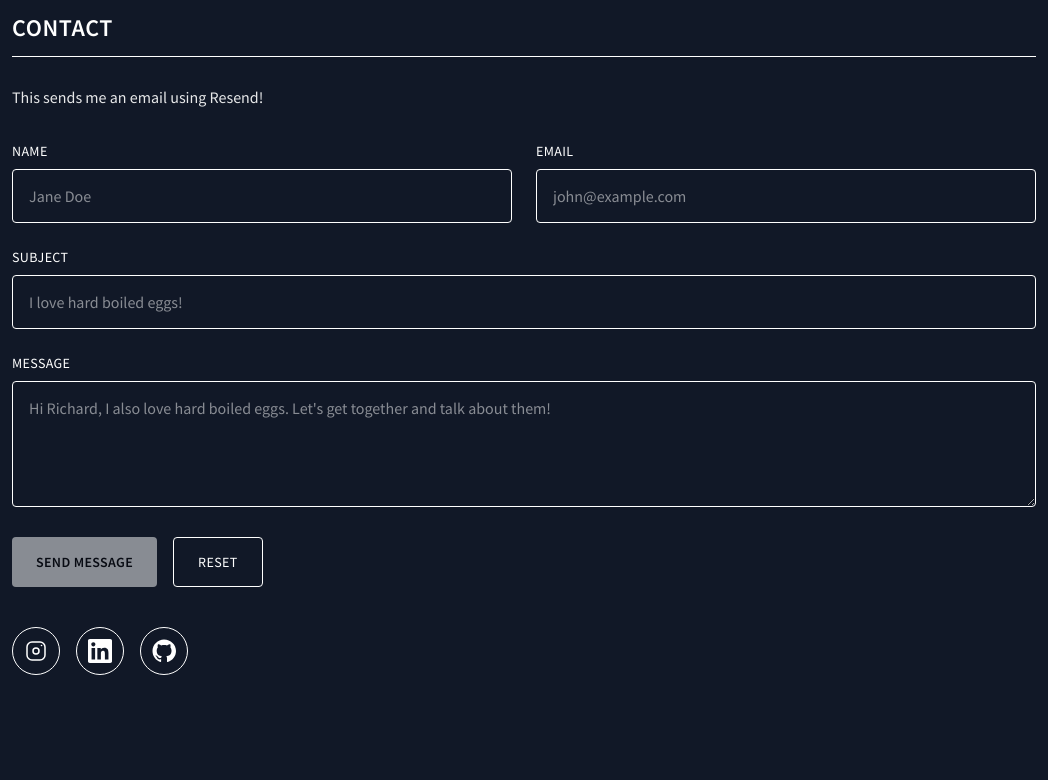
it: shows an invalid email error after blur and keeps sending disabled
Type "jane@example" into the field labelled "Email".
click(786, 196); type("jane@example")  # box [536, 169, 1036, 223]
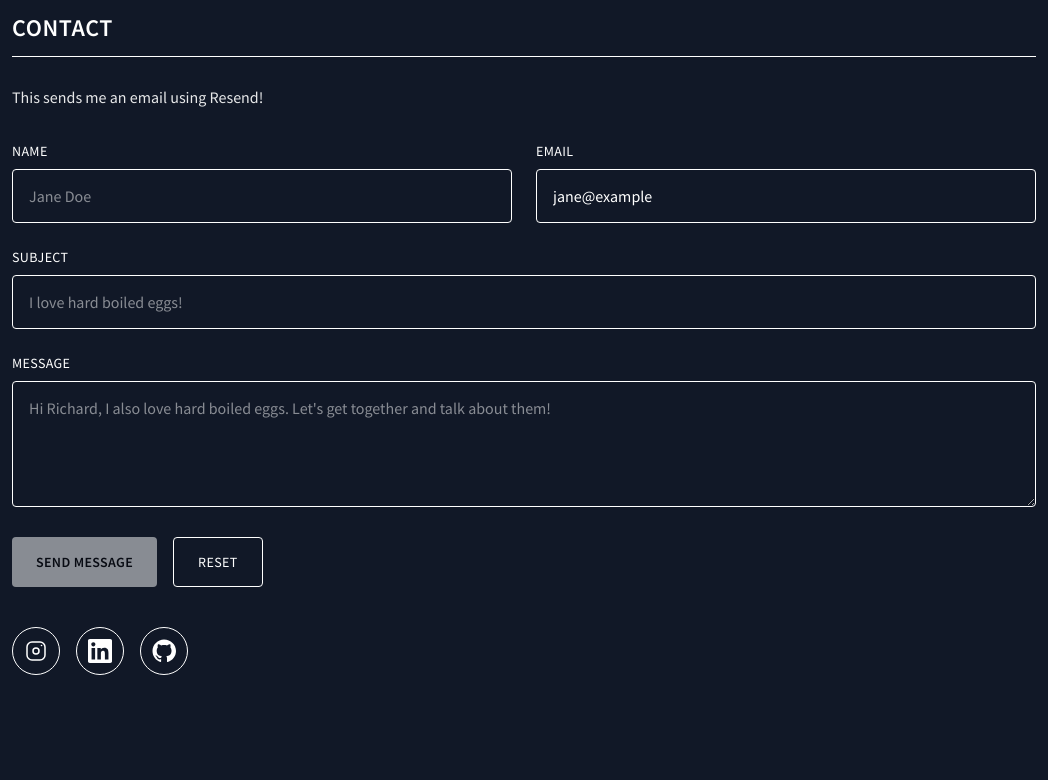
Leave the field labelled "Email", box [536, 169, 1036, 223]
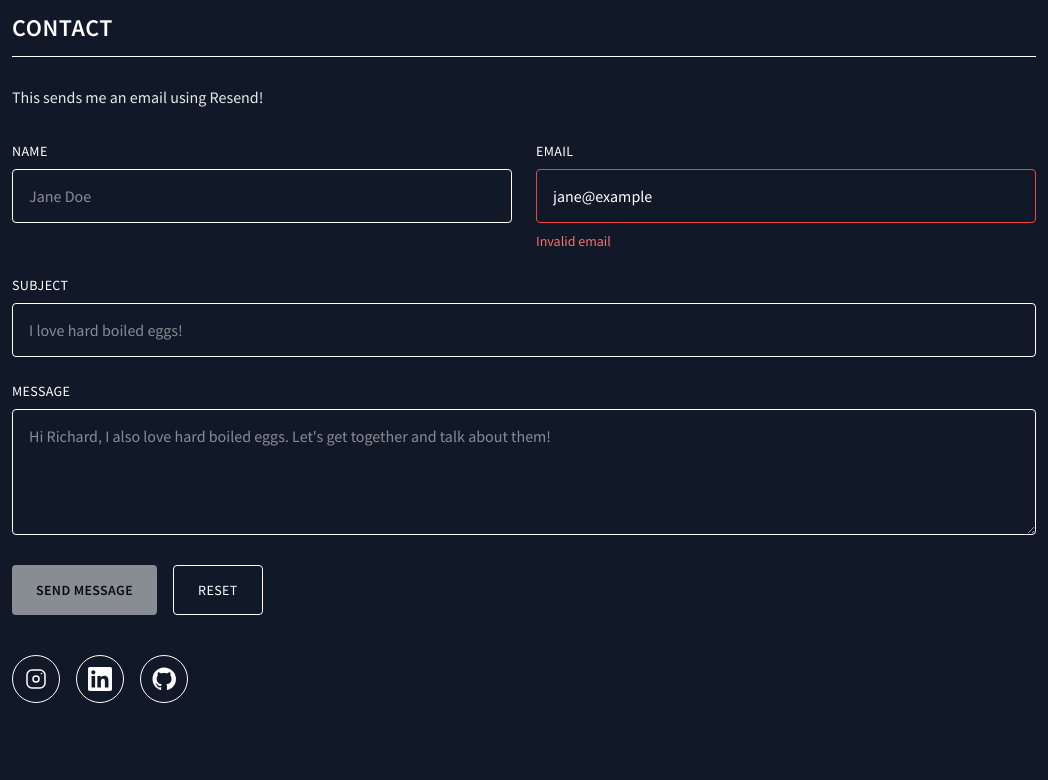
Check: the button "Send Message" is disabled, box [12, 565, 157, 615]
Check: the text "Invalid email" is shown, box [536, 232, 611, 250]
